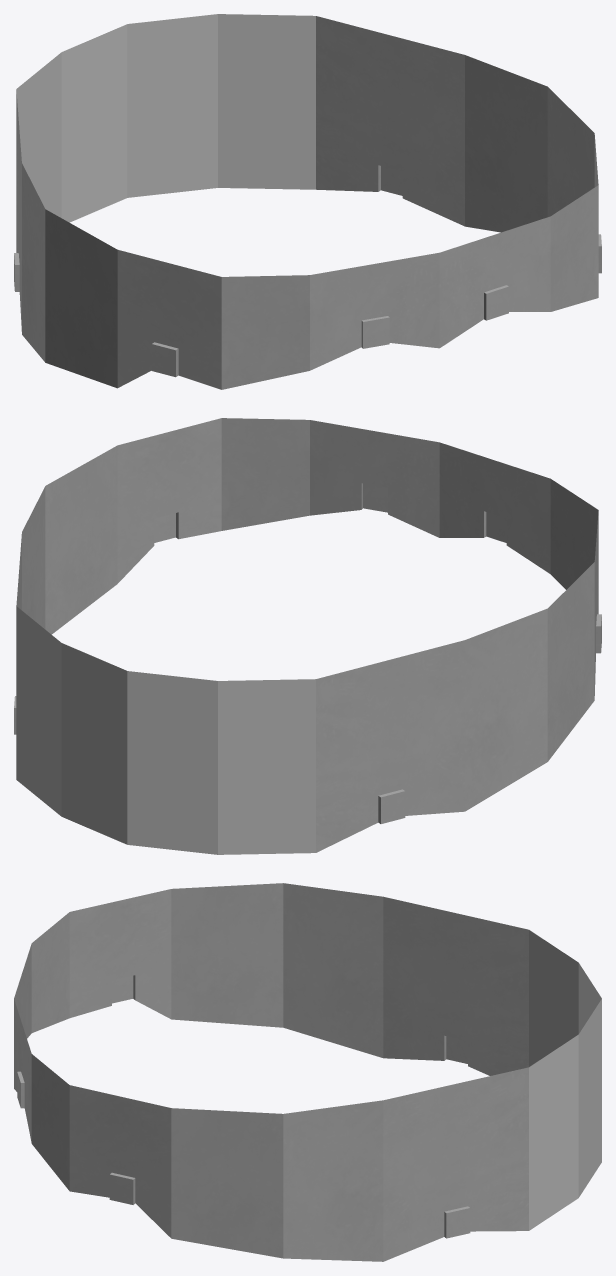
The model's file is SM_SceneMesh_Walls_01.fbx.
3 views of the same model, one above another, from view 1: azimuth 30°, elevation 25°; view 2: azimuth 150°, elevation 25°; view 3: azimuth 270°, elevation 25° (orthographic). The views are drawn at different scales.
Parts seen in each view (by area): view 1: SM_SceneMesh_Walls_01_LOD0; view 2: SM_SceneMesh_Walls_01_LOD0; view 3: SM_SceneMesh_Walls_01_LOD0.
Boxes of the visible parts, x1,y1,x2,y2 form: SM_SceneMesh_Walls_01_LOD0: (14, 14, 601, 389); SM_SceneMesh_Walls_01_LOD0: (14, 418, 601, 854); SM_SceneMesh_Walls_01_LOD0: (14, 883, 601, 1261).
Size of the model in its own units: 5091 by 5482 by 1684.
